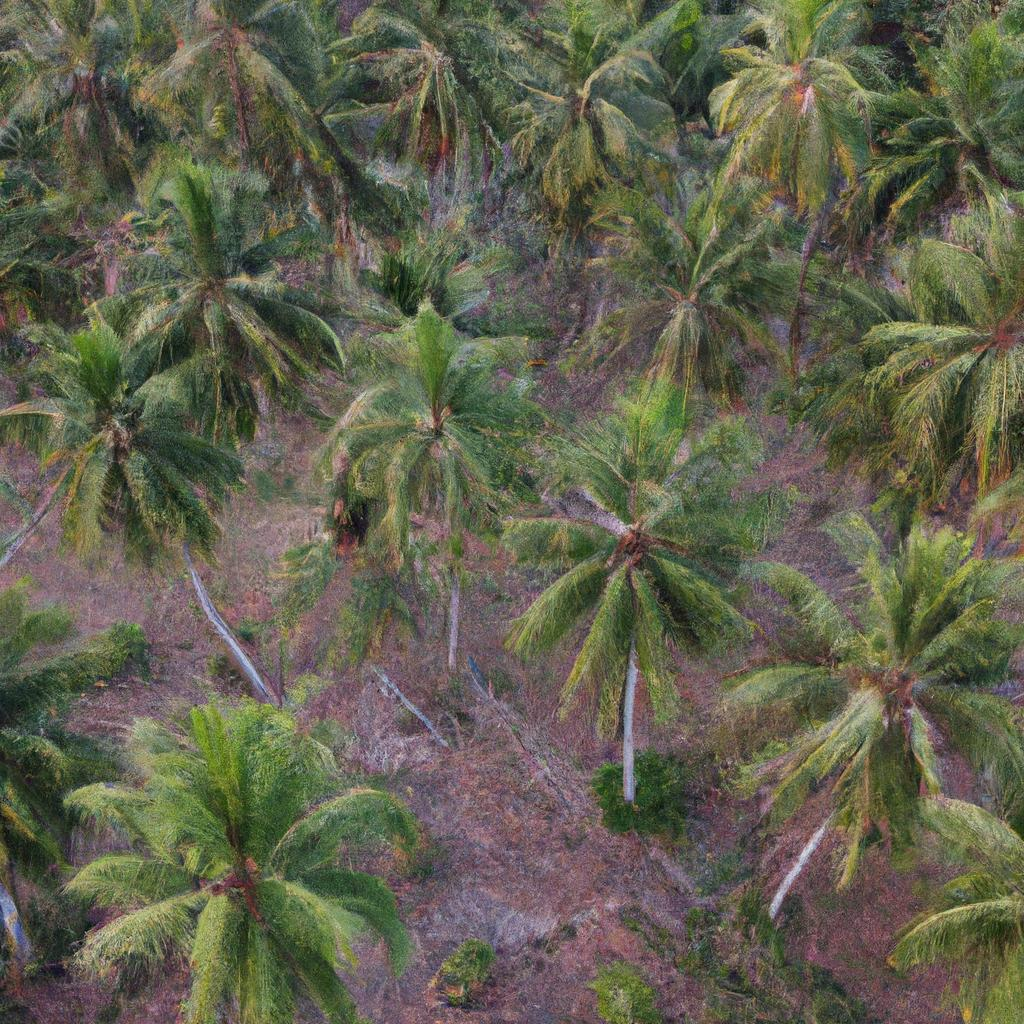coconut_tree: (69, 683, 431, 1023), (746, 505, 1023, 891), (513, 416, 794, 712), (21, 323, 253, 583), (579, 151, 831, 383)
